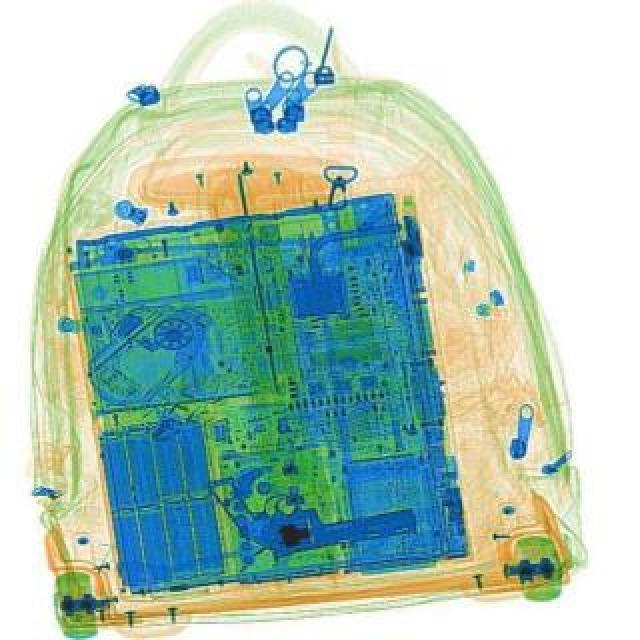gun: (204, 452, 422, 560)
